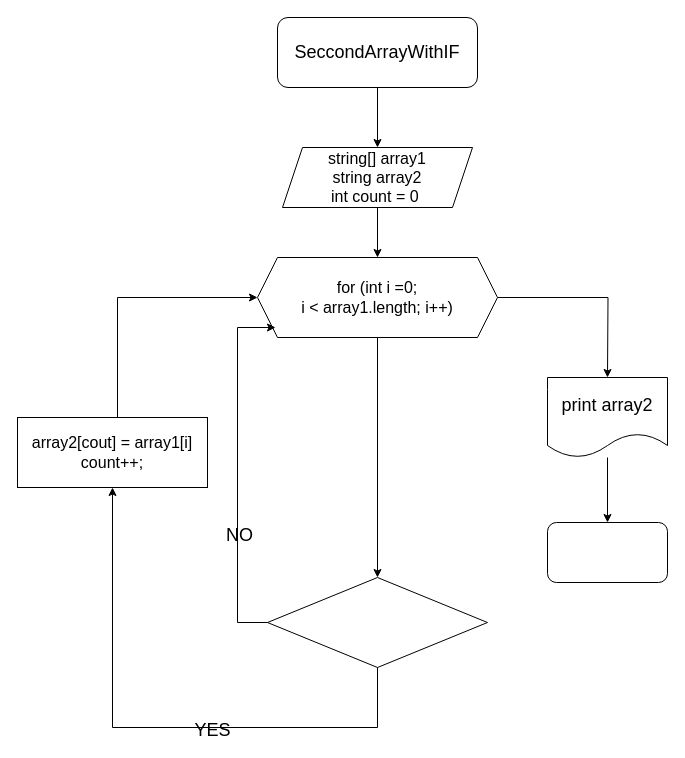
Image size: 685x758. Some labels were removed from this diagram. The shapes that lost their labels are listed below. From the top down, each one's centre as x and y in pixels, then its label:
At pixel 607 552: "End".
At pixel 377 622: "if( array1[i].length <= 3)".
